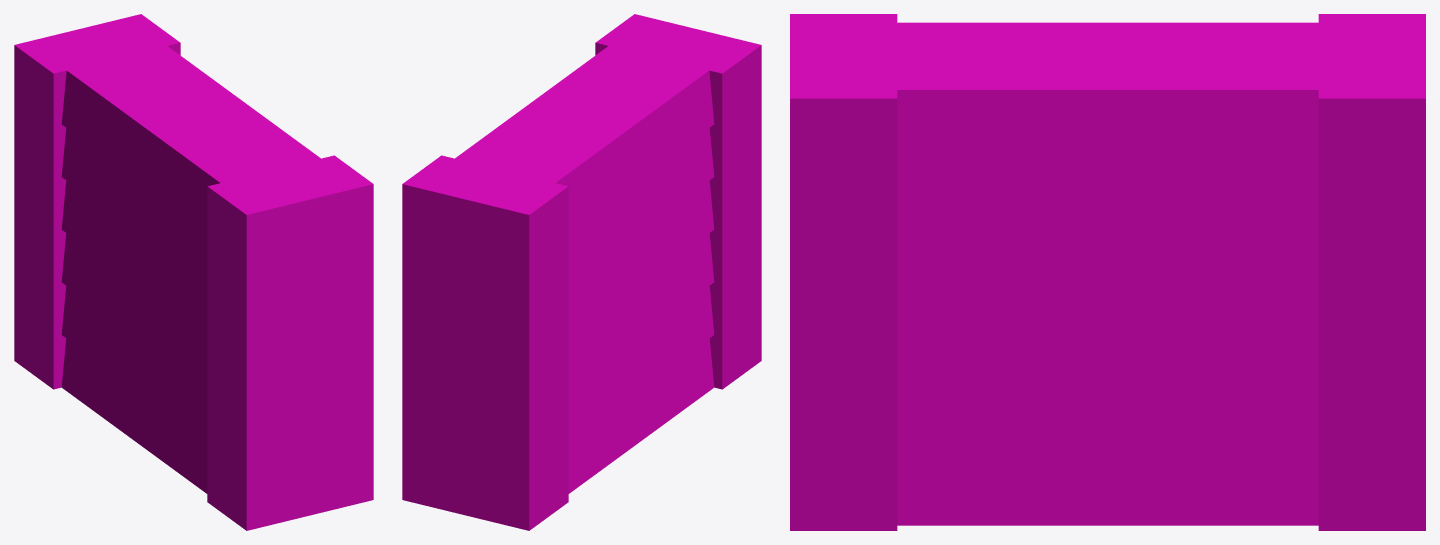
File: WoodenAsianWalls.fbx
The picture shows the model from 3 angles, left to right: view 1: azimuth 30°, elevation 25°; view 2: azimuth 150°, elevation 25°; view 3: azimuth 270°, elevation 25°; orthographic projection. The views are drawn at different scales.
Visible parts, largest first — view 1: Cube; view 2: Cube; view 3: Cube.
Boxes of the visible parts, x1,y1,x2,y2 form: Cube: (14,14,373,530); Cube: (402,14,761,530); Cube: (790,14,1425,530).
Size of the model in its own units: 252 by 600 by 800.
